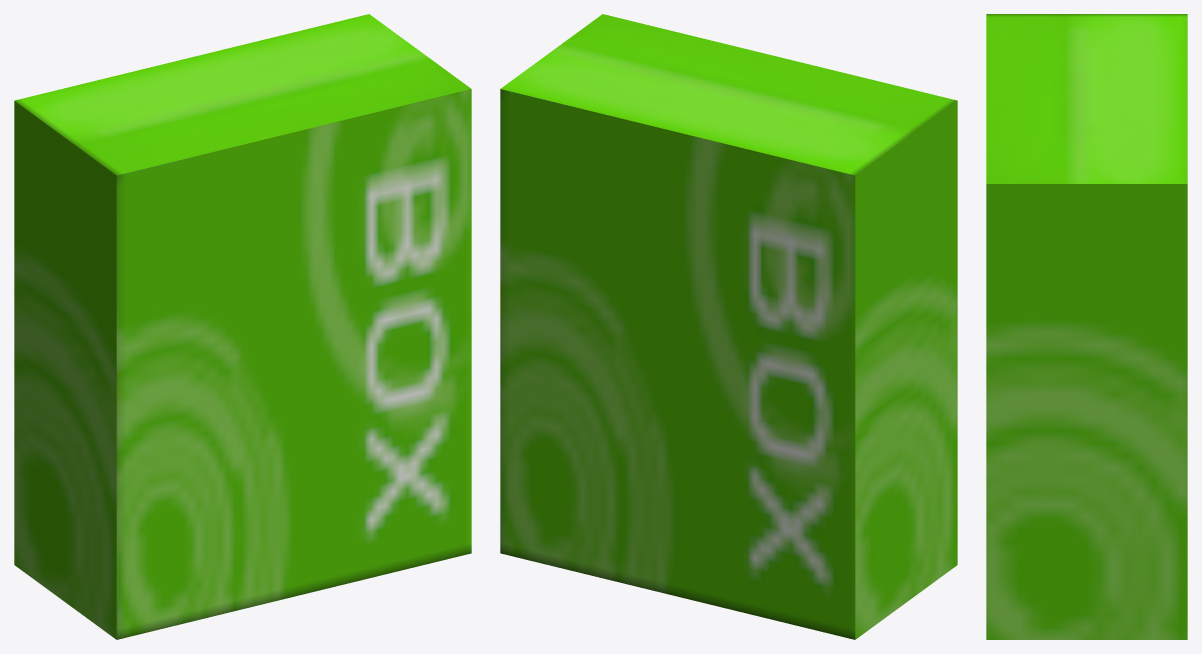
Rendered from ExBox.fbx.
The picture shows the model from 3 angles, left to right: view 1: azimuth 30°, elevation 25°; view 2: azimuth 150°, elevation 25°; view 3: azimuth 270°, elevation 25°; orthographic projection.
Visible parts, largest first — view 1: Maya_File_Assets:TexturedAssetsCurrent:GameConsols; view 2: Maya_File_Assets:TexturedAssetsCurrent:GameConsols; view 3: Maya_File_Assets:TexturedAssetsCurrent:GameConsols.
Part boxes in pixels (x1,y1,x2,y2): Maya_File_Assets:TexturedAssetsCurrent:GameConsols: [14, 14, 471, 639]; Maya_File_Assets:TexturedAssetsCurrent:GameConsols: [500, 14, 957, 639]; Maya_File_Assets:TexturedAssetsCurrent:GameConsols: [986, 14, 1187, 639].
Size of the model in its own units: 0.3625 by 0.4532 by 0.1813.
